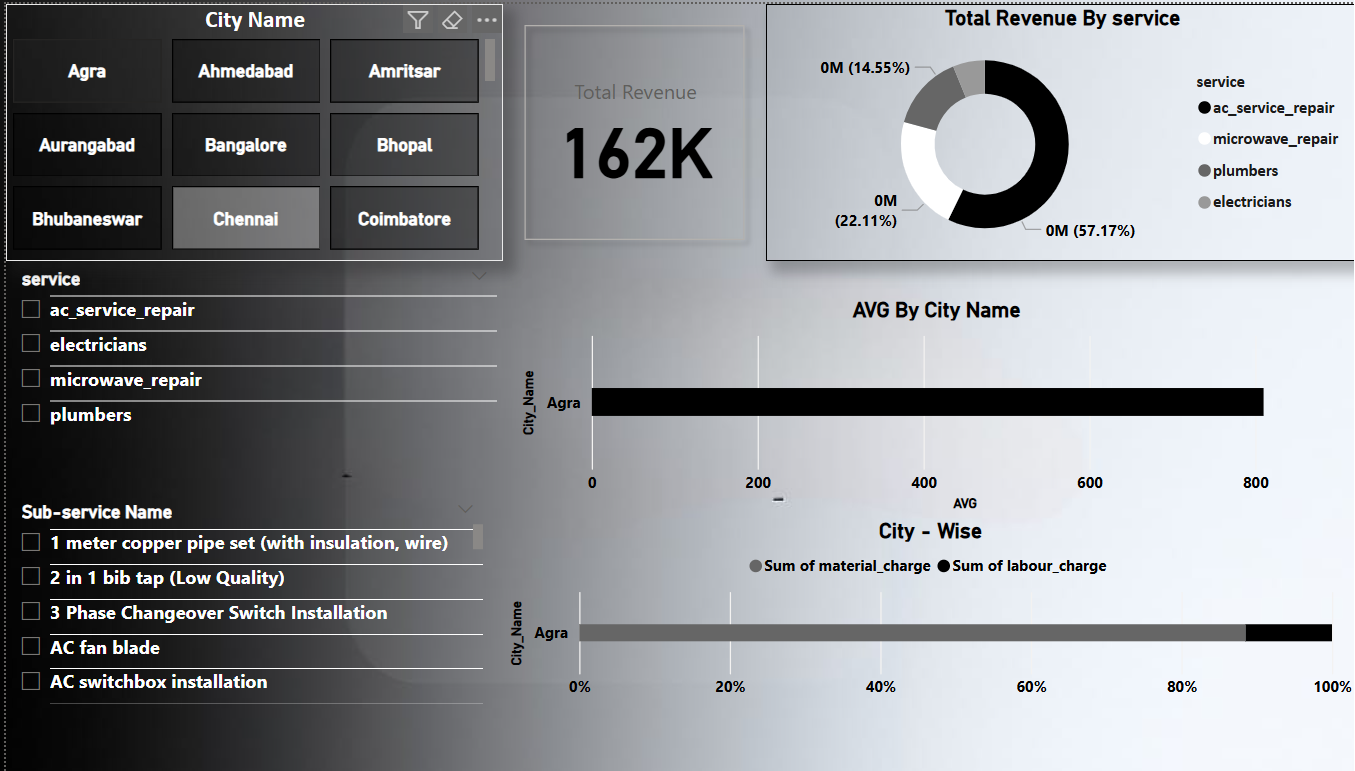

This screenshot's page, from the dashboard's own definition file:
{"tool":"powerbi","page":{"name":"Page 2","canvas":[1280,720],"ordinal":1},"visuals":[{"type":"clusteredBarChart","title":"AVG By City Name","fields":{"Category":["UC.City_Name"],"Y":["UC.AVG"]},"box":[408,234,674,177],"z":0},{"type":"donutChart","title":"Total Revenue By service","fields":{"Category":["UC.service"],"Y":["UC.Total_Revenue"]},"box":[608,0,474,206],"z":1000},{"type":"hundredPercentStackedBarChart","title":"City - Wise","fields":{"Y":["Sum(UC.material_charge)","Sum(UC.labour_charge)"],"Category":["UC.City_Name"]},"box":[398,411,684,154],"z":2000},{"type":"slicer","fields":{"Values":["UC.service"]},"box":[0,206,398,187],"z":3000},{"type":"qnaVisual","box":[1129.5,665.5,130.6,12.4],"z":4000},{"type":"advancedSlicerVisual","title":"City Name","fields":{"Values":["UC.City_Name"]},"box":[0,0,398,206],"z":5000},{"type":"slicer","fields":{"Values":["UC.subservice_name"]},"box":[0,393,387,172],"z":6000},{"type":"cardVisual","fields":{"Data":["UC.Total_Revenue"]},"box":[398,0,210,206],"z":7000}]}

Visuals, with their boxes in screenshot pixels (x1, y1, x2, y2), scaled from the page's 1280x720 canvas onto the 1355x771 screenshot:
"AVG By City Name" clusteredBarChart: [left=432, top=251, right=1145, bottom=440]
"Total Revenue By service" donutChart: [left=644, top=0, right=1145, bottom=221]
"City - Wise" hundredPercentStackedBarChart: [left=421, top=440, right=1145, bottom=605]
slicer - UC.service: [left=0, top=221, right=421, bottom=421]
qnaVisual: [left=1196, top=713, right=1334, bottom=726]
"City Name" advancedSlicerVisual: [left=0, top=0, right=421, bottom=221]
slicer - UC.subservice_name: [left=0, top=421, right=410, bottom=605]
cardVisual - UC.Total_Revenue: [left=421, top=0, right=644, bottom=221]
